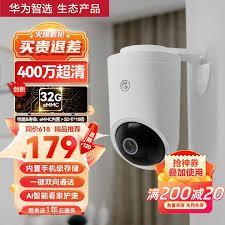maru: (99, 32, 189, 178)
